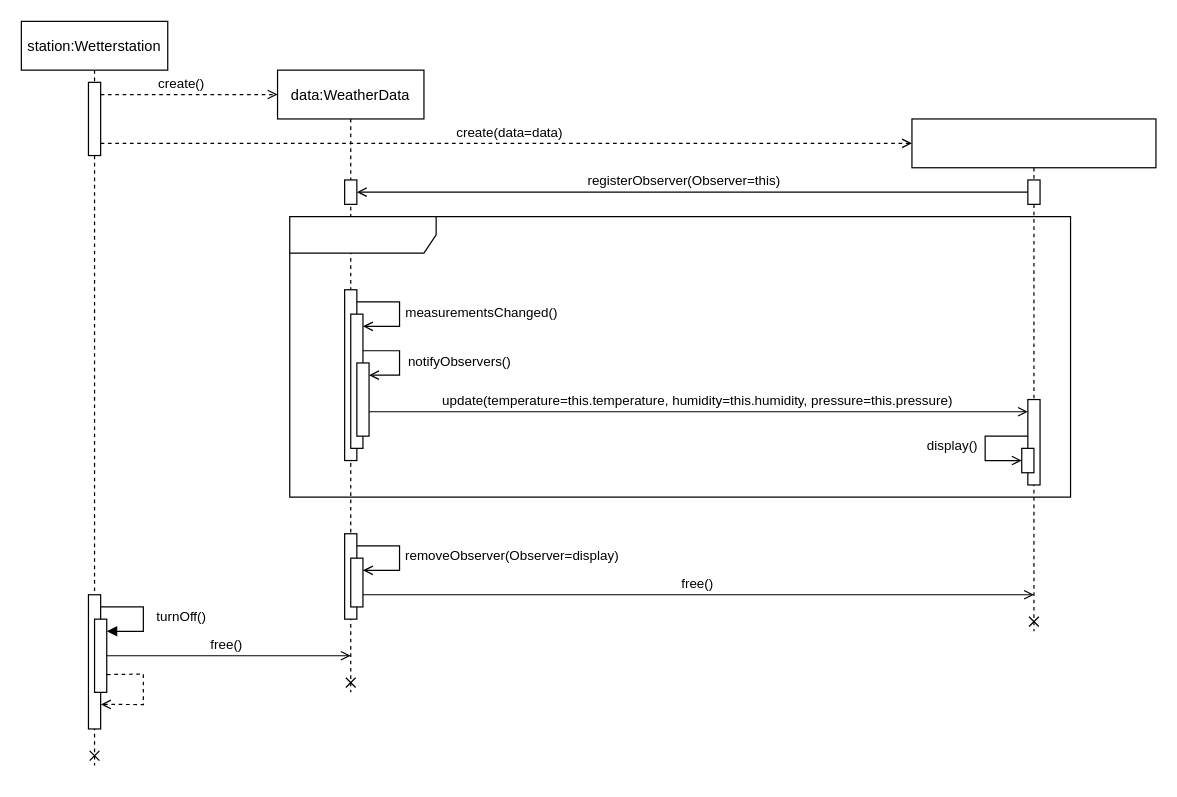
The diagram is 1177 pixels wide and 797 high, and some of its shapes have lost their labels. The shapes that lost their labels are listed below. From the top down, each one's centre as x and y in pixels, then its label:
point (1033, 143): display:CurrentConditionsDisplay
point (680, 356): loop(2)
